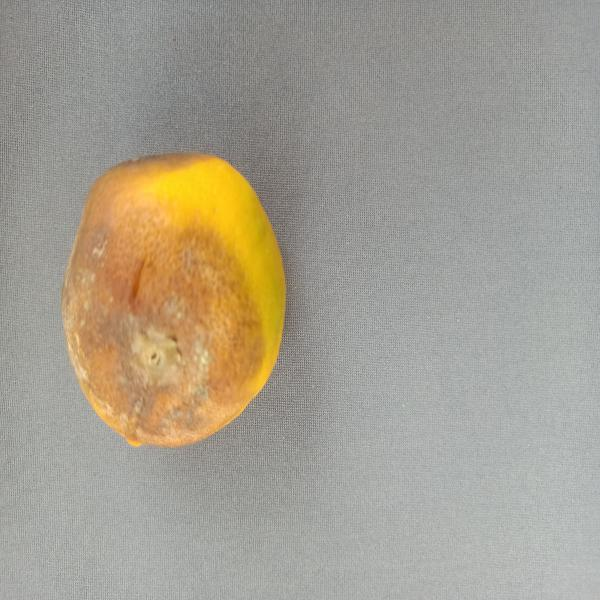Scab: (47, 136, 304, 459)
